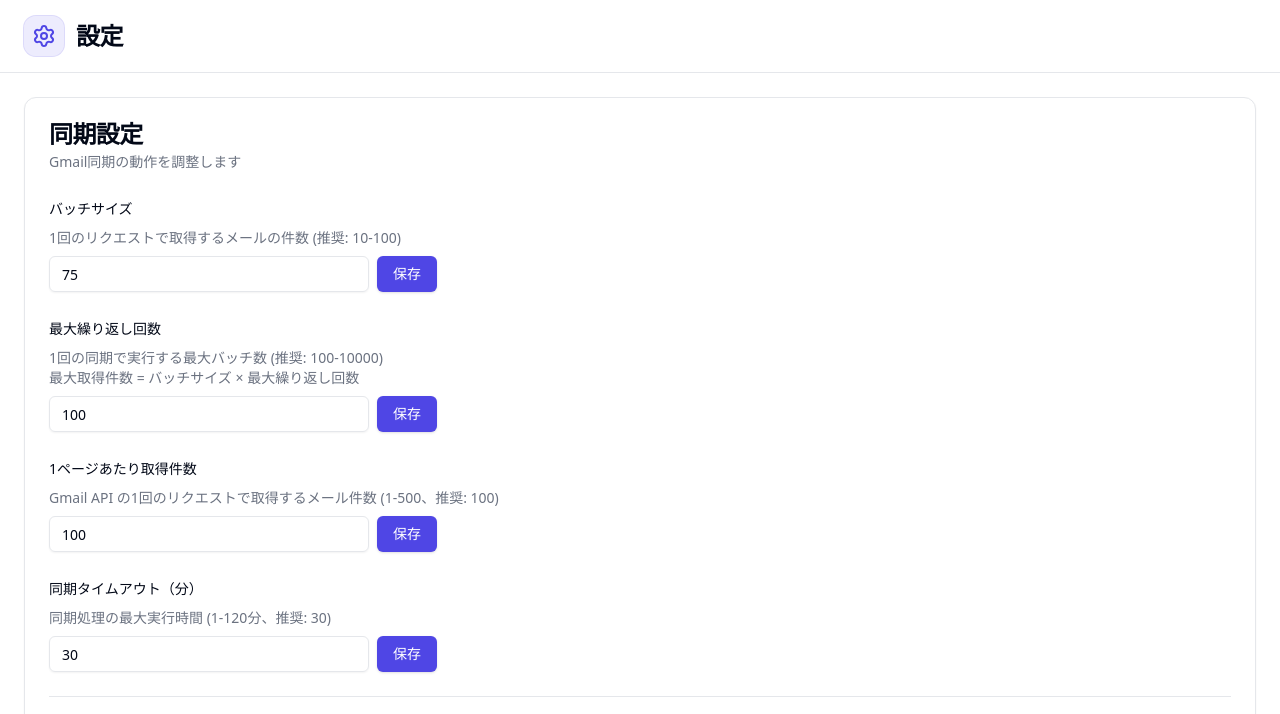
Settings › handleSaveBatchSize › handles batch size update error
This screenshot has width=1280, height=714.
Expected: the number field with id "batch-size" is shown, [49,256,369,292]
Click the button with aria-label "同期バッチサイズを保存". click: (407, 274)
box: [377,256,437,292]
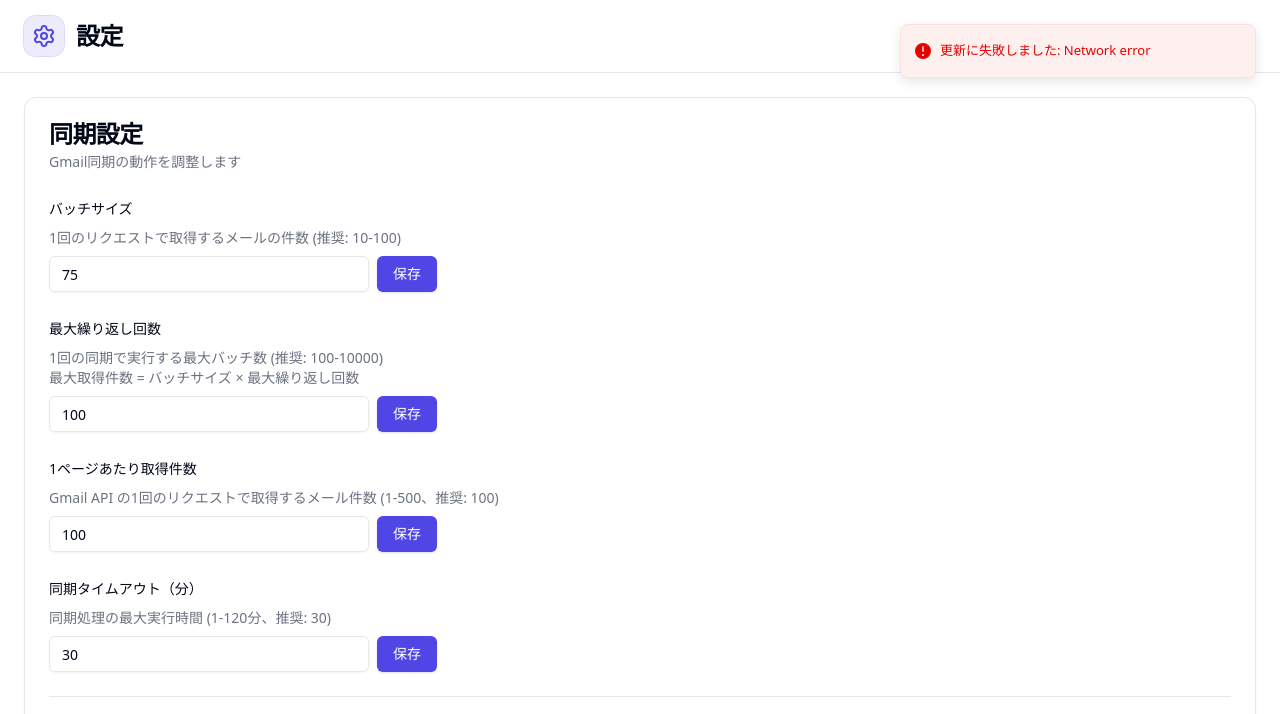
Expected: the text "更新に失敗しました: Network error" is shown, [940,41,1151,60]
